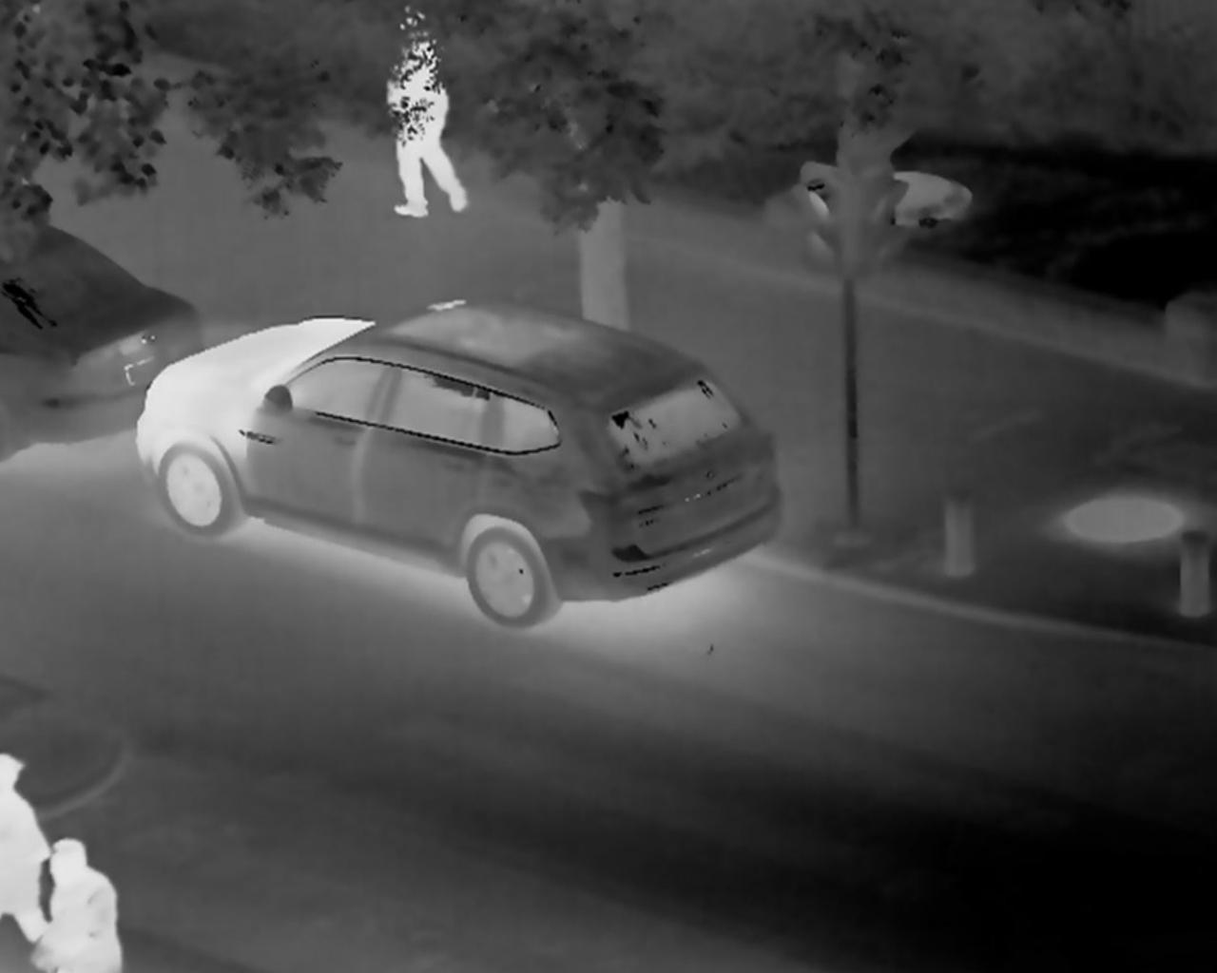person: (394, 5, 481, 218), (31, 828, 121, 973)
